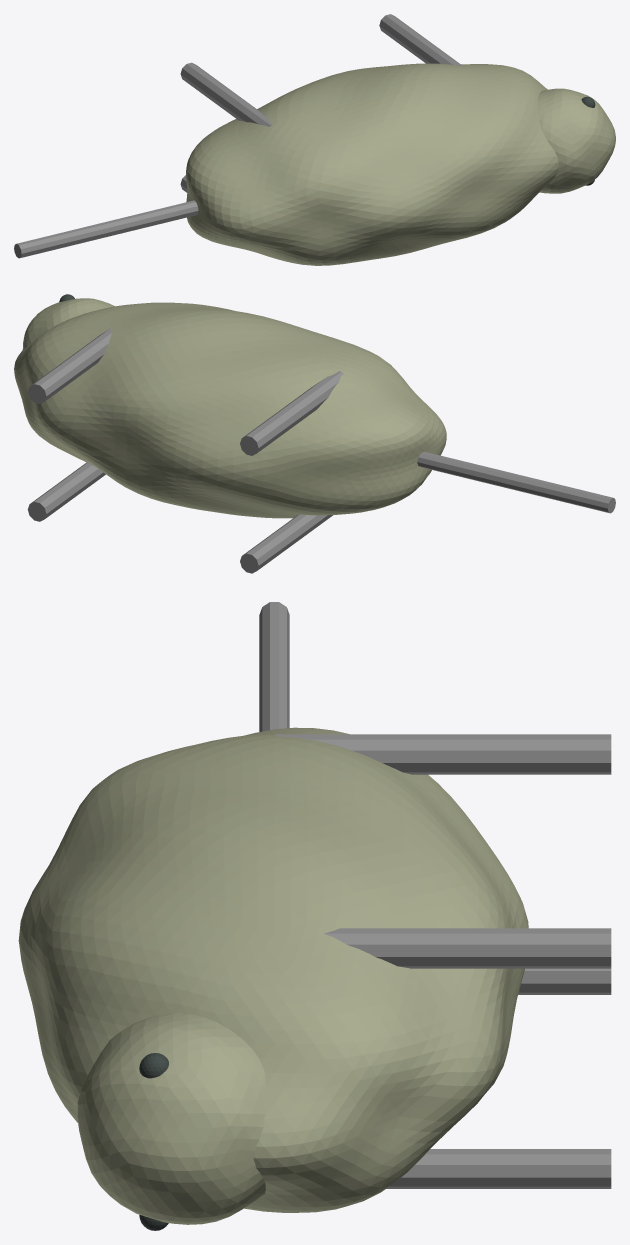
File: Bana_Forest_Grazer.glb
3 views of the same model, one above another, from view 1: azimuth 30°, elevation 25°; view 2: azimuth 150°, elevation 25°; view 3: azimuth 270°, elevation 25° (orthographic). The views are drawn at different scales.
Visible parts, largest first — view 1: world; view 2: world; view 3: world.
Boxes of the visible parts, <box> form: world: <box>14,14,615,265</box>; world: <box>14,294,615,573</box>; world: <box>18,602,611,1230</box>.
Size of the model in its own units: 6.62 by 1.74 by 2.98.
